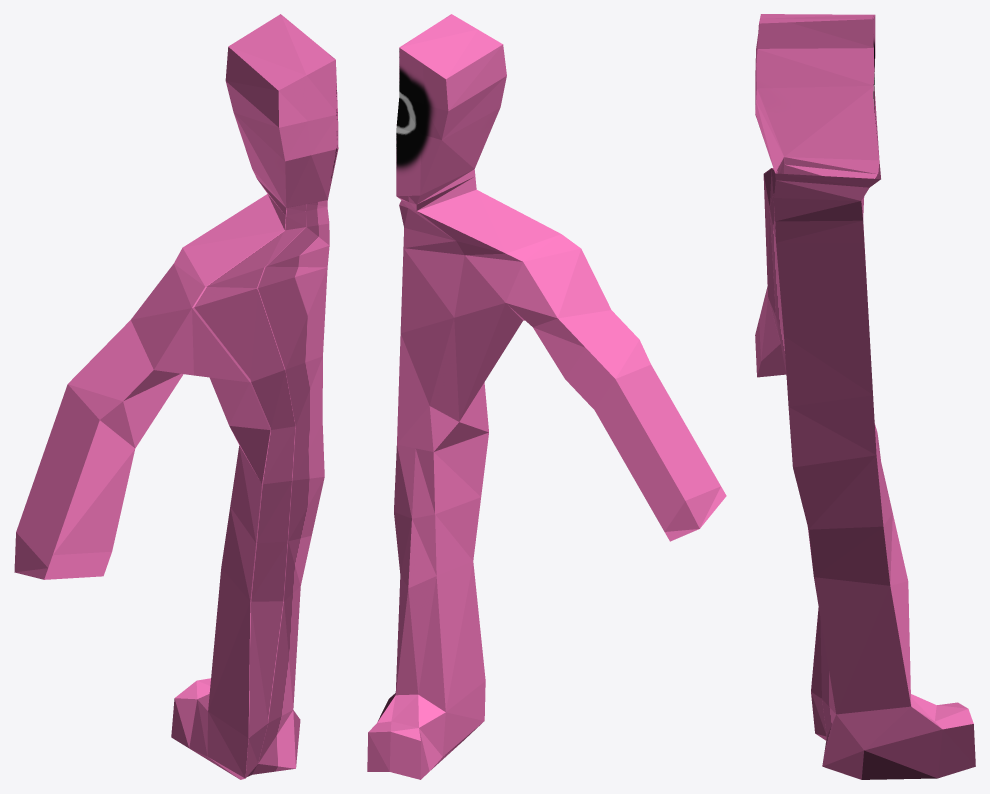
File: lowpoly2.dae
The picture shows the model from 3 angles, left to right: view 1: azimuth 30°, elevation 25°; view 2: azimuth 150°, elevation 25°; view 3: azimuth 270°, elevation 25°; orthographic projection. The views are drawn at different scales.
Visible parts, largest first — view 1: Cube; view 2: Cube; view 3: Cube.
Boxes of the visible parts, x1,y1,x2,y2 form: Cube: [14, 14, 338, 779]; Cube: [367, 14, 726, 779]; Cube: [755, 14, 975, 779].
Bounding box in the file's own units: 0.9355 × 0.5631 × 2.15.
Materials: 1 (1 with a texture image).
